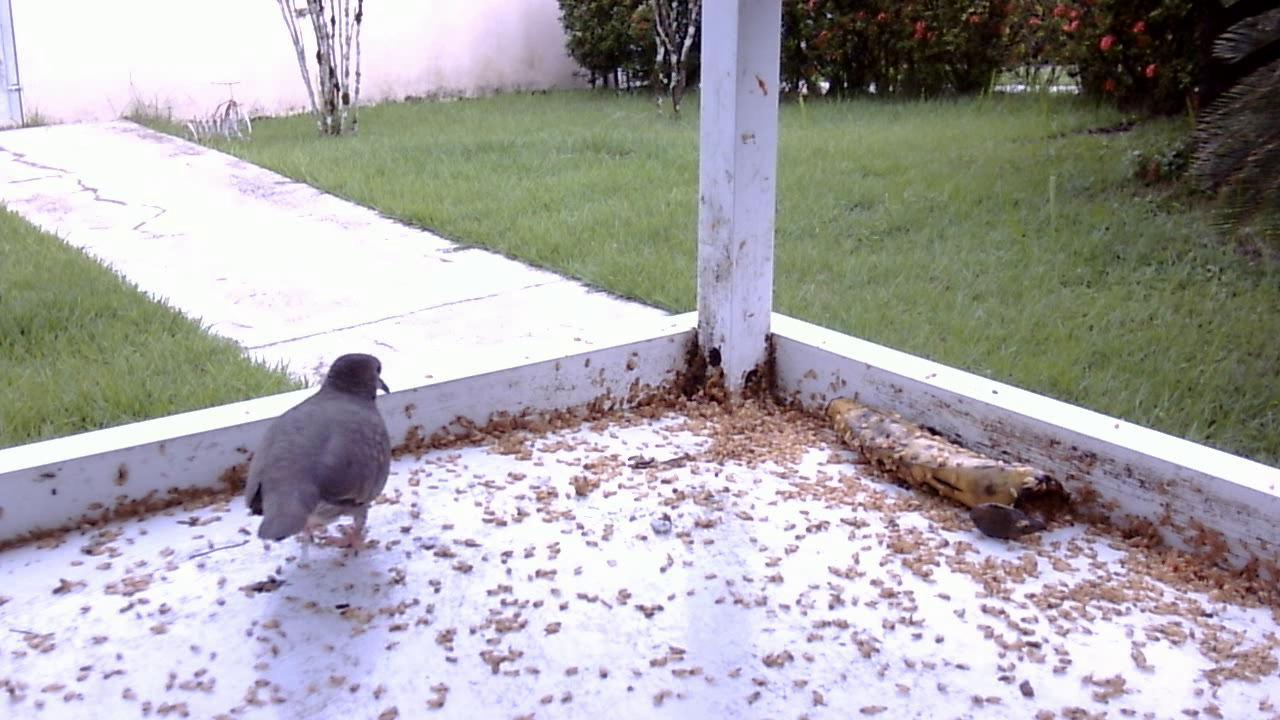rolinha: (231, 348, 401, 567)
